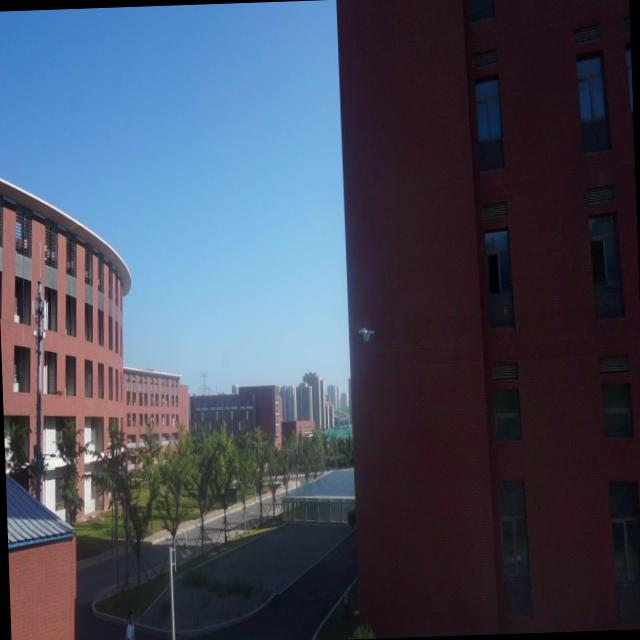drone: (356, 323, 375, 344)
